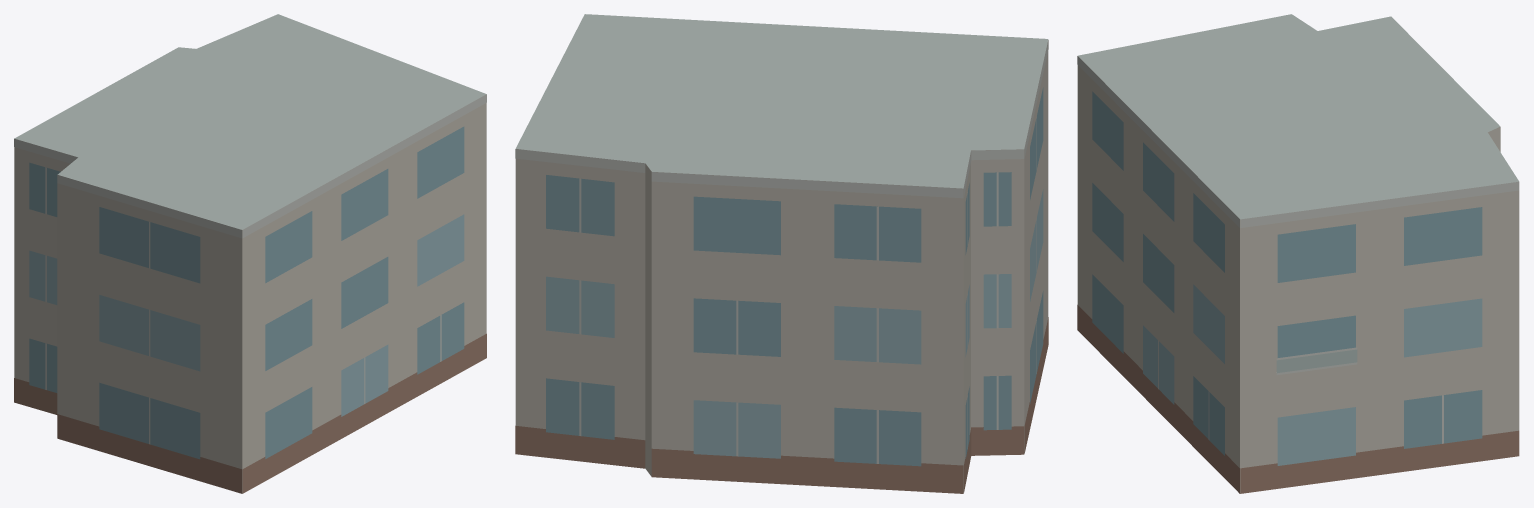
The model's file is survey-upis-32965398.glb.
3 renders of one model, left to right at view 1: azimuth 30°, elevation 25°; view 2: azimuth 150°, elevation 25°; view 3: azimuth 270°, elevation 25°, orthographic. The views are drawn at different scales.
Parts seen in each view (by area): view 1: survey-upis-32965398.tmp; view 2: survey-upis-32965398.tmp; view 3: survey-upis-32965398.tmp.
Boxes of the visible parts, x1,y1,x2,y2 form: survey-upis-32965398.tmp: (14,14,486,493); survey-upis-32965398.tmp: (515,14,1048,493); survey-upis-32965398.tmp: (1077,14,1519,493).
Bounding box in the file's own units: 12.21 × 7.6 × 11.1.
